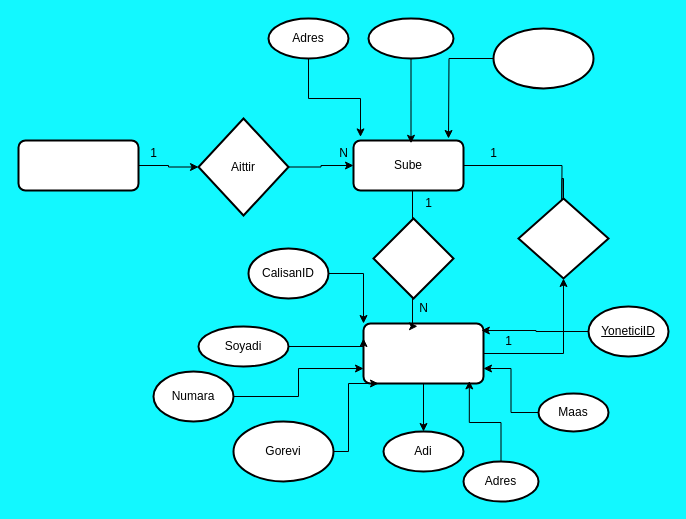
This 686x519 diagram has some shape labels left out. Here are the shapes that lost their labels. From the top down, the centre of each, then its label:
the point at 410,38: SubeID
the point at 543,58: SubeAdi
the point at 78,165: Sirket
the point at 413,258: Calisir
the point at 563,238: Yonetir
the point at 423,353: Calisan
